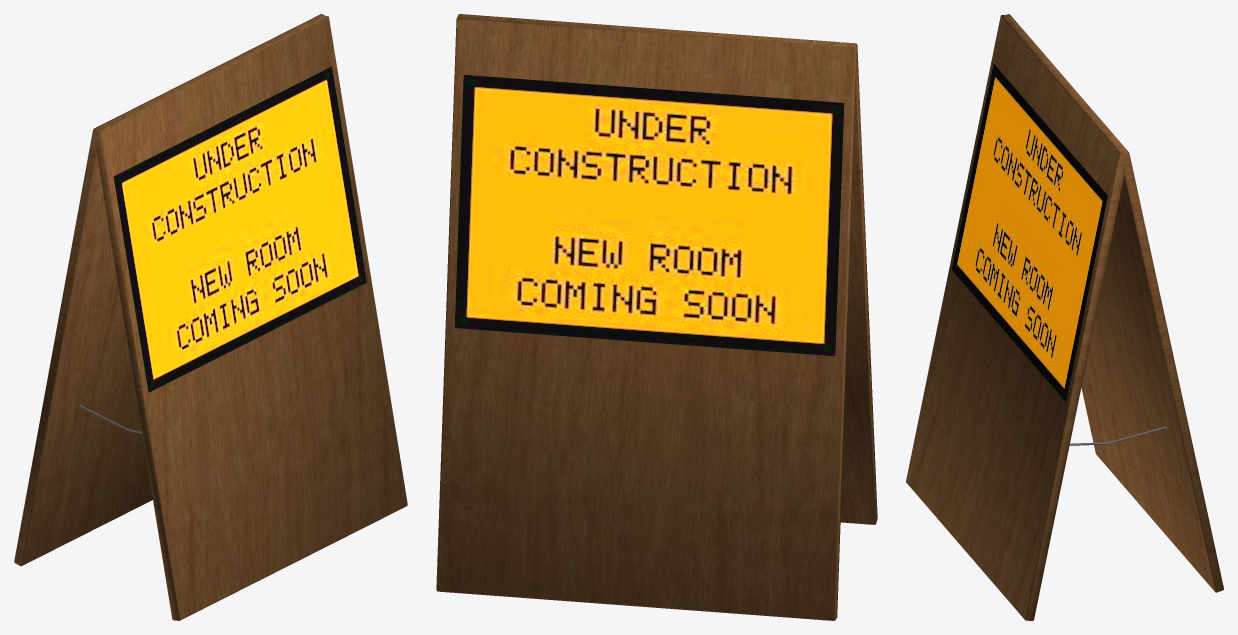
The model's file is easel_sign.glb.
3 views of the same model, side by side, from view 1: azimuth 30°, elevation 25°; view 2: azimuth 150°, elevation 25°; view 3: azimuth 270°, elevation 25° (orthographic). The views are drawn at different scales.
Parts seen in each view (by area): view 1: Lumber.006, Construction sign; view 2: Lumber.006, Construction sign; view 3: Lumber.006, Construction sign.
Boxes of the visible parts, bbox=[...] form: Lumber.006: bbox=[14, 14, 407, 620]; Construction sign: bbox=[113, 66, 366, 392]; Lumber.006: bbox=[436, 14, 877, 620]; Construction sign: bbox=[454, 75, 844, 356]; Lumber.006: bbox=[906, 14, 1223, 620]; Construction sign: bbox=[951, 64, 1107, 401].
Size of the model in its own units: 0.9607 by 1.2 by 0.7629.
3 materials, 2 textured.
